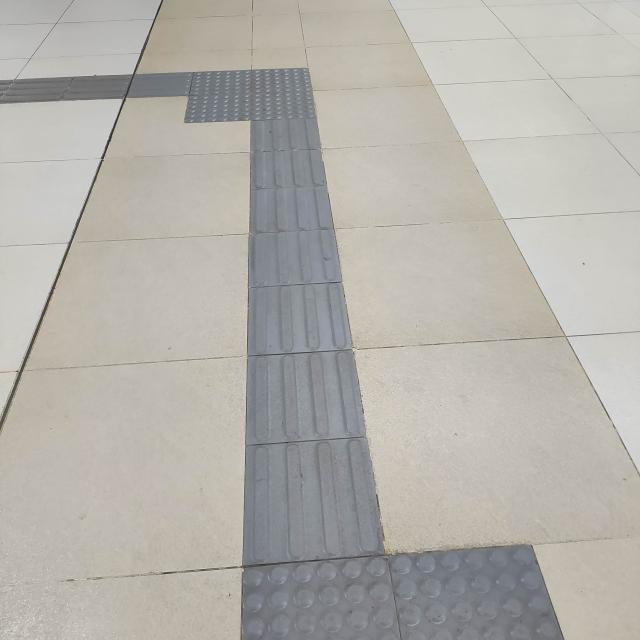kiri: (122, 46, 338, 145)
